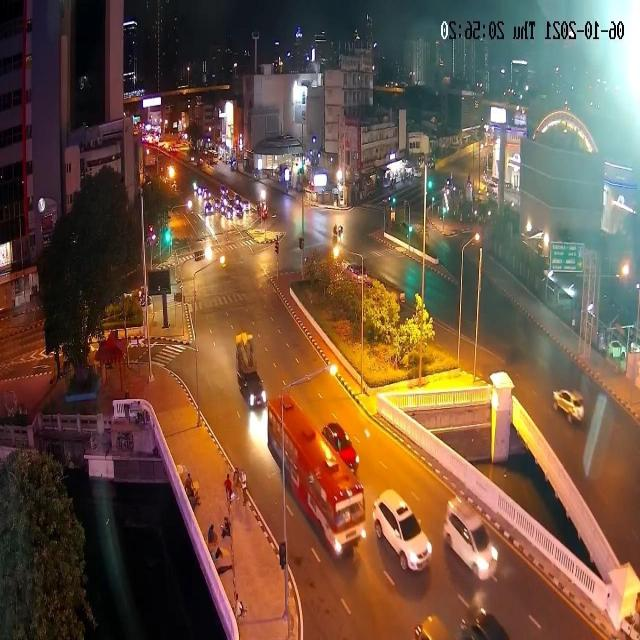Bus: (266, 395, 366, 557)
Car: (442, 496, 499, 580), (373, 490, 431, 572), (322, 421, 359, 473), (458, 606, 513, 640), (552, 388, 585, 426), (238, 368, 266, 410), (414, 613, 453, 640), (345, 262, 371, 286), (138, 287, 152, 307), (504, 86, 520, 102), (232, 198, 244, 218), (257, 200, 268, 220), (207, 152, 220, 165), (204, 200, 213, 215), (225, 208, 233, 220), (202, 188, 210, 200), (242, 200, 250, 212), (196, 185, 204, 196), (220, 187, 228, 198), (198, 157, 204, 167), (190, 155, 196, 164)
